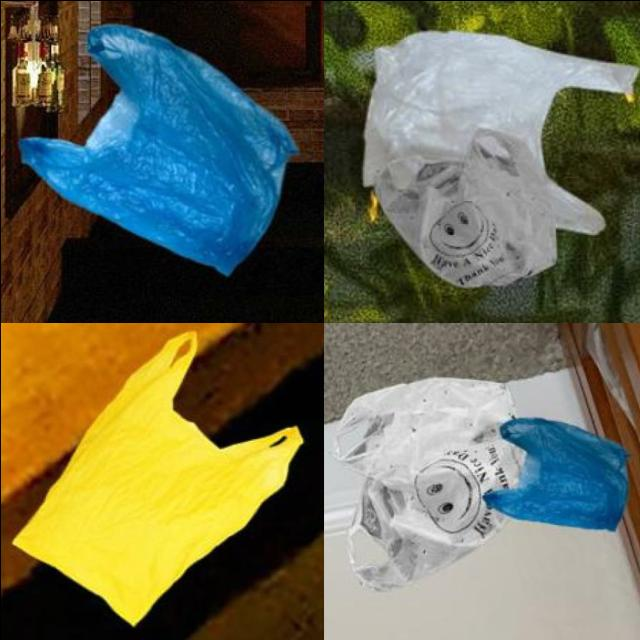plastik: (13, 331, 302, 624), (363, 30, 638, 287), (20, 24, 295, 274), (333, 377, 525, 590), (482, 417, 626, 531)
